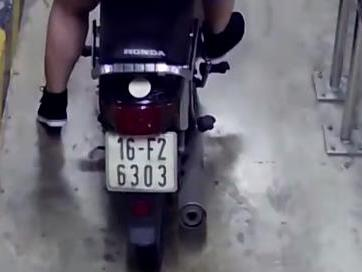num_plate: (105, 130, 182, 195)
